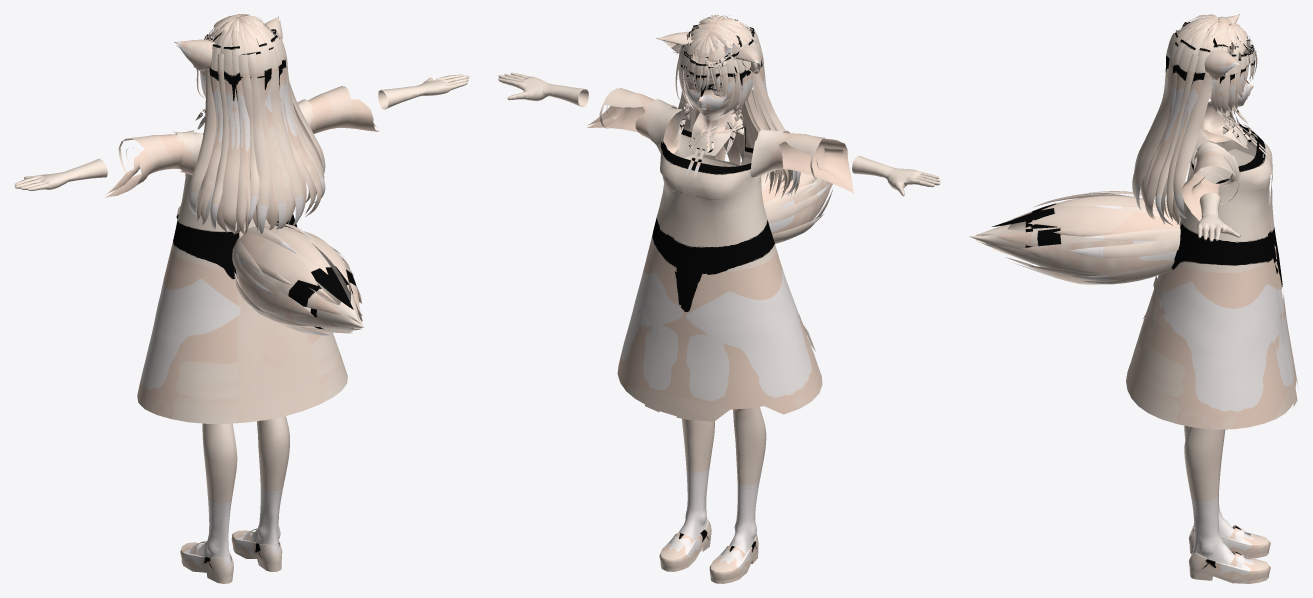
3 renders of one model, left to right at view 1: azimuth 30°, elevation 25°; view 2: azimuth 150°, elevation 25°; view 3: azimuth 270°, elevation 25°, orthographic. The views are drawn at different scales.
Parts seen in each view (by area): view 1: Body, Hair; view 2: Body, Hair, Face; view 3: Body, Hair, Face.
Part boxes in pixels (bbox=[...]): Body: bbox=[14, 16, 469, 583]; Hair: bbox=[188, 14, 325, 235]; Body: bbox=[498, 24, 940, 583]; Hair: bbox=[675, 14, 800, 198]; Face: bbox=[683, 38, 754, 115]; Body: bbox=[970, 14, 1298, 583]; Hair: bbox=[1132, 14, 1257, 225]; Face: bbox=[1208, 34, 1253, 106].
Size of the model in its own units: 1.39 by 1.61 by 0.8806.
Materials: 22 (22 with a texture image).
